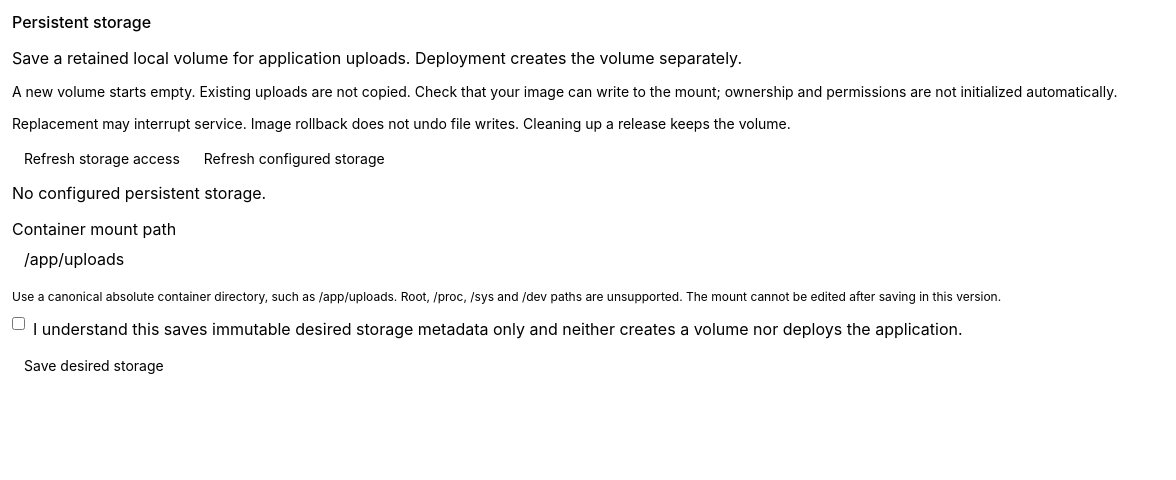
Scenario: owner explicitly saves metadata only and sees immutable retained identity, not activation
Expected: the text "No configured persistent storage." is shown, [12,183,266,203]
Submit the form named "Configure persistent storage", box [12,217,1164,377]
Expected: the text "No configured persistent storage." is shown, [12,183,266,203]
Click the checkbox at (18, 324), box [12,317,25,330]
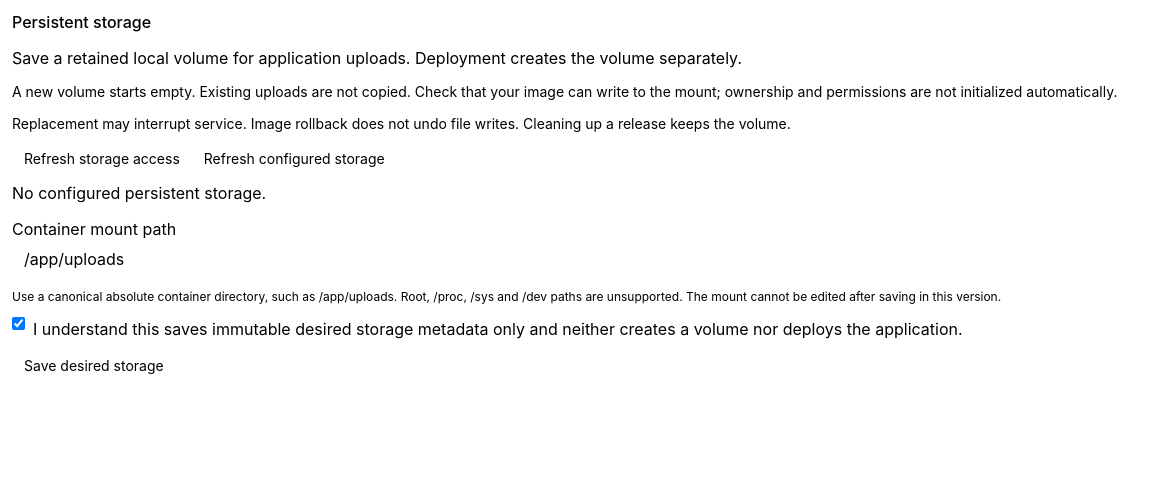
Submit the form named "Configure persistent storage", box [12,217,1164,377]
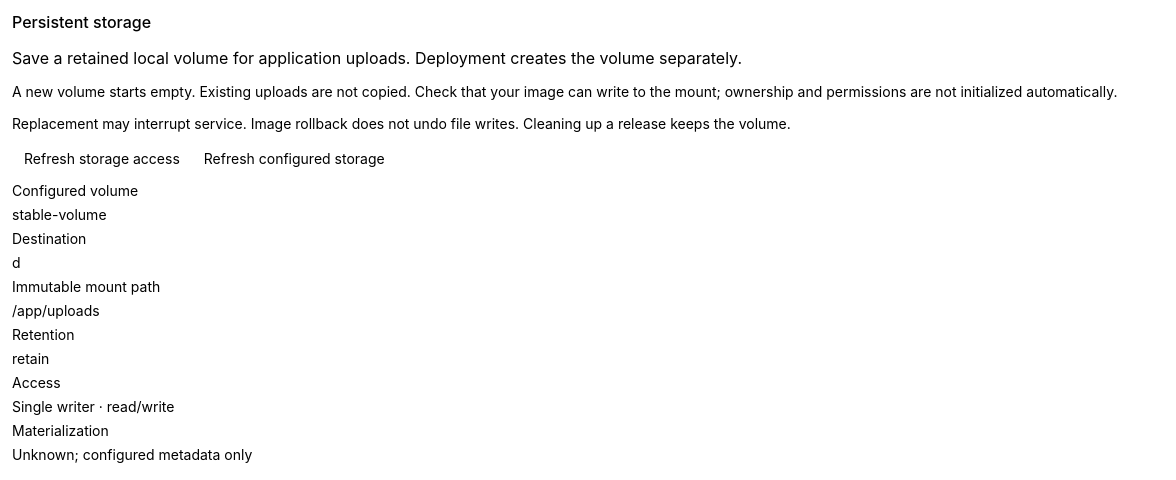
Now the element named "Configured storage metadata" is shown, box [12,182,252,463]
Now the text "stable-volume" is shown, box [12,206,107,223]
Now the text "Unknown; configured metadata only" is shown, box [12,446,252,463]
